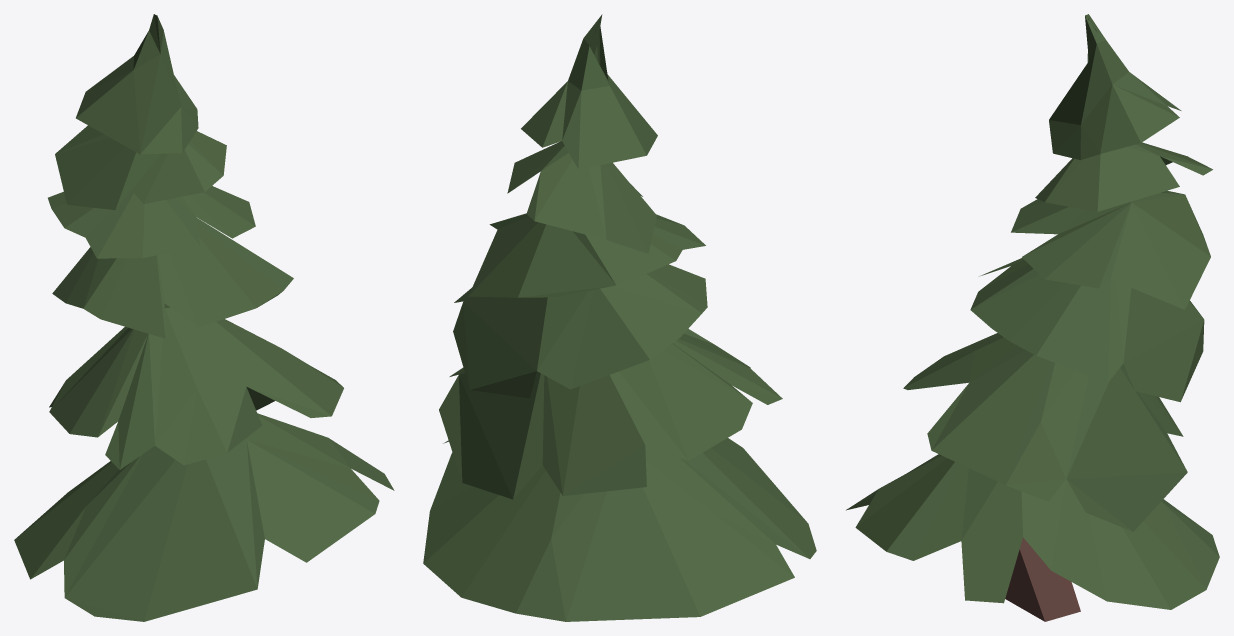
The model's file is PineTree_3_lod.glb.
3 renders of one model, left to right at view 1: azimuth 30°, elevation 25°; view 2: azimuth 150°, elevation 25°; view 3: azimuth 270°, elevation 25°, orthographic. The views are drawn at different scales.
Visible parts, largest first — view 1: PineTree_3; view 2: PineTree_3; view 3: PineTree_3.
Part boxes in pixels (left/top/right/bottom): PineTree_3: left=14, top=14, right=394, bottom=621; PineTree_3: left=423, top=14, right=816, bottom=621; PineTree_3: left=846, top=14, right=1219, bottom=621.
Size of the model in its own units: 2.12 by 3.3 by 1.94.
